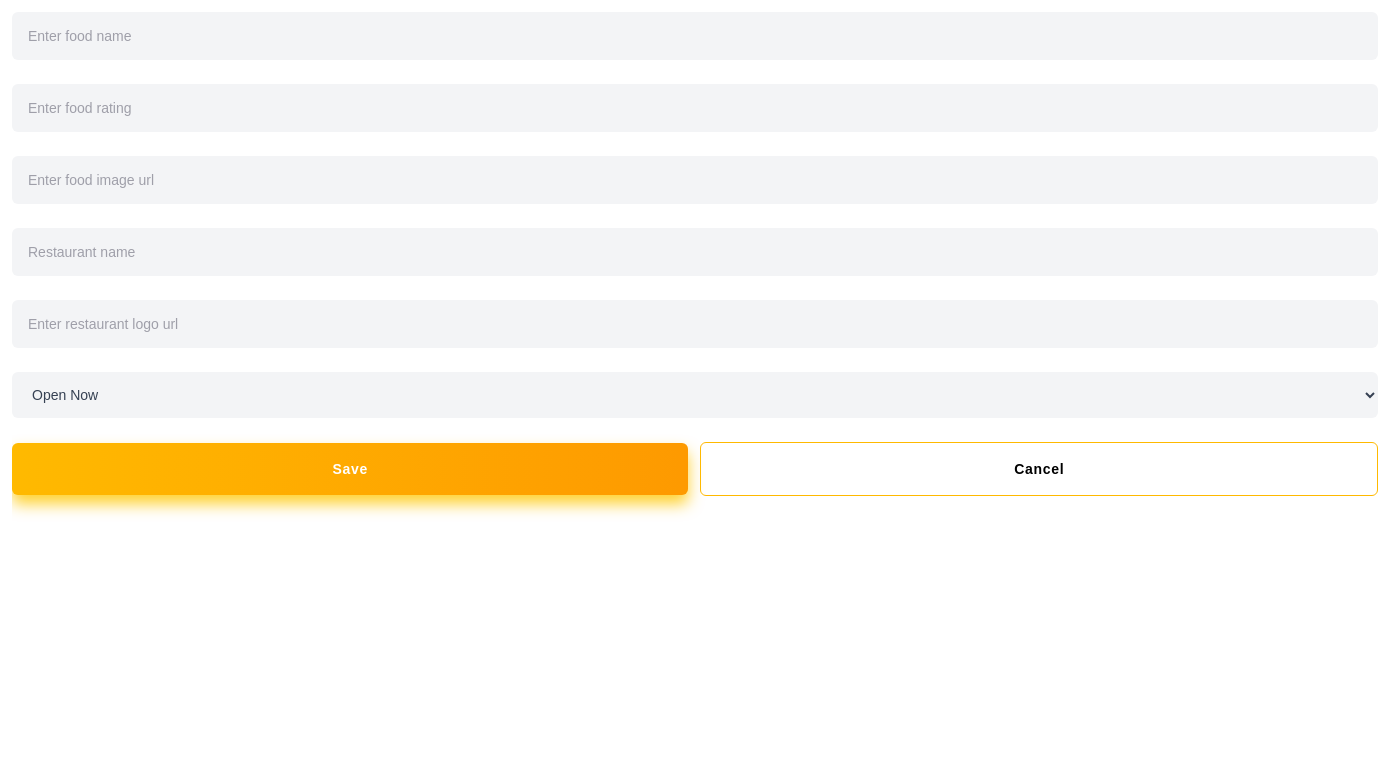
Test: FoodForm › shows error for invalid rating range
The image size is (1390, 780).
Fill required fields first
Type "Pizza" into the field with placeholder "Enter food name".
click(695, 36); type("Pizza")  # box x1=12 y1=12 x2=1378 y2=60
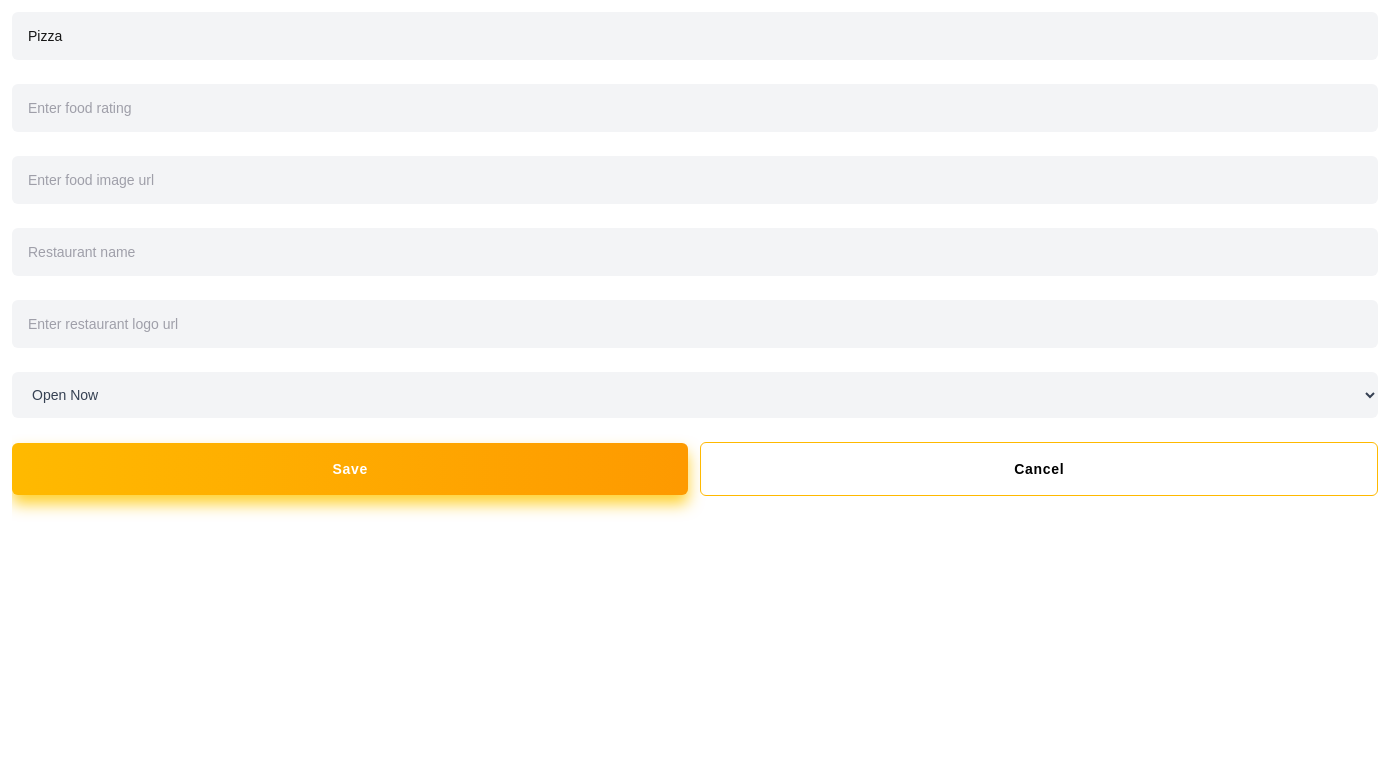
Type "https://example.com/pizza.jpg" into the field with placeholder "Enter food image url".
click(695, 180); type("https://example.com/pizza.jpg")  # box x1=12 y1=156 x2=1378 y2=204
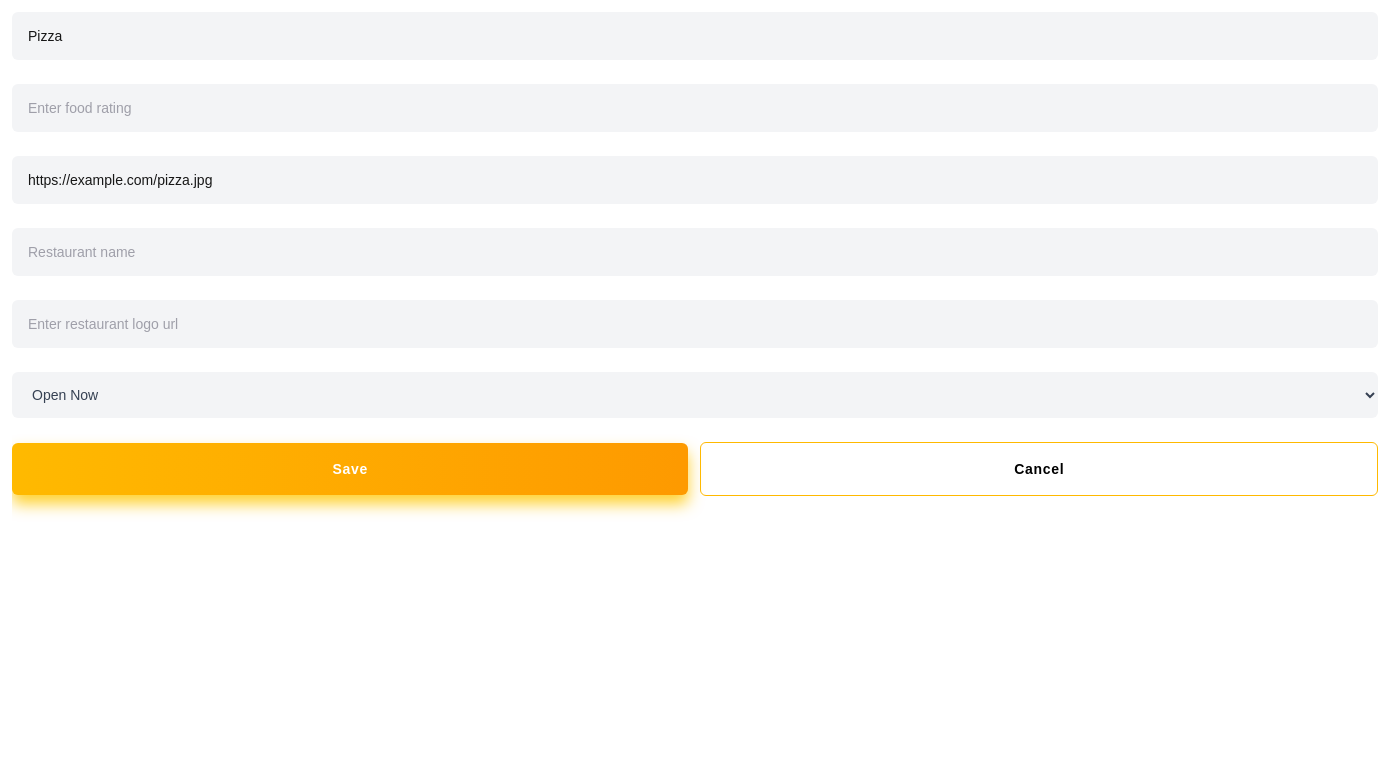
Type "Pizza Place" into the field with placeholder "Restaurant name".
click(695, 252); type("Pizza Place")  # box x1=12 y1=228 x2=1378 y2=276
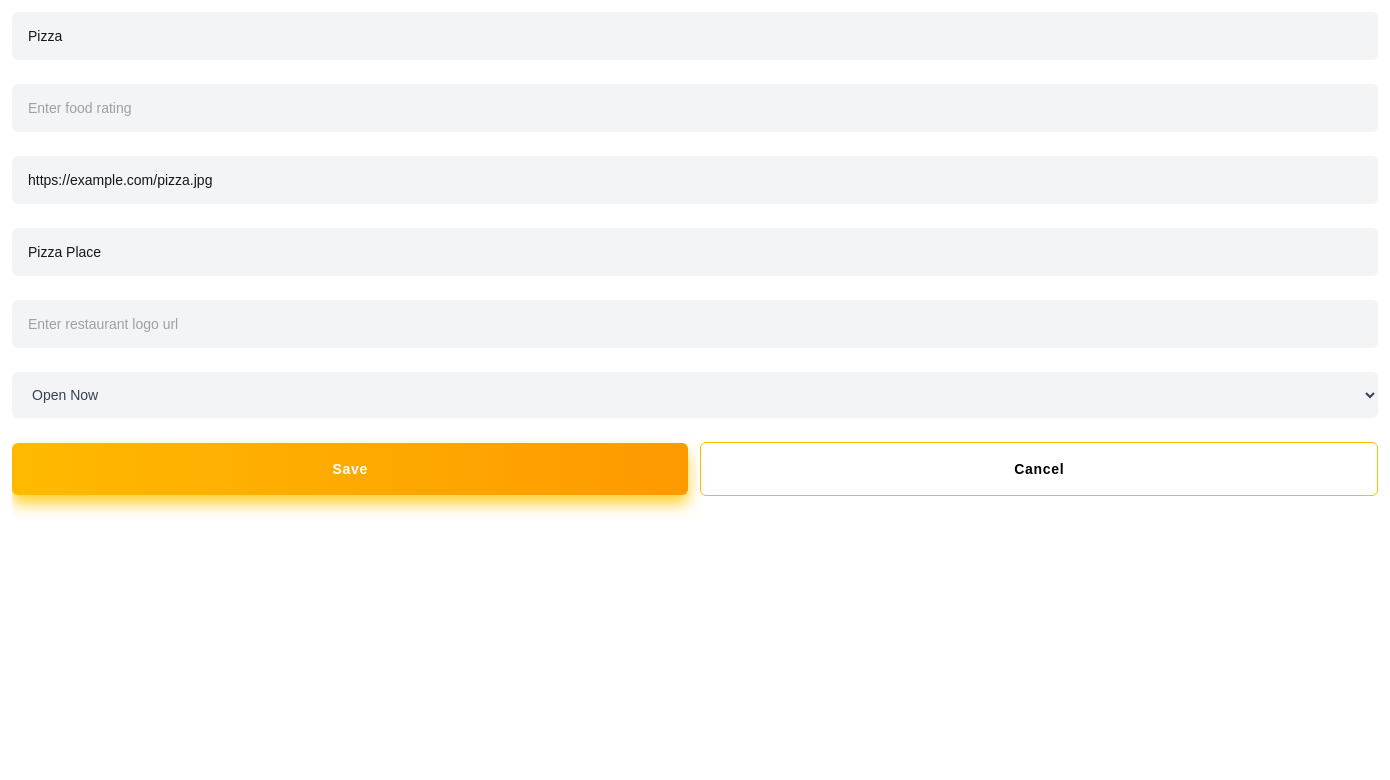
Type "https://example.com/logo.jpg" into the field with placeholder "Enter restaurant logo url".
click(695, 324); type("https://example.com/logo.jpg")  # box x1=12 y1=300 x2=1378 y2=348
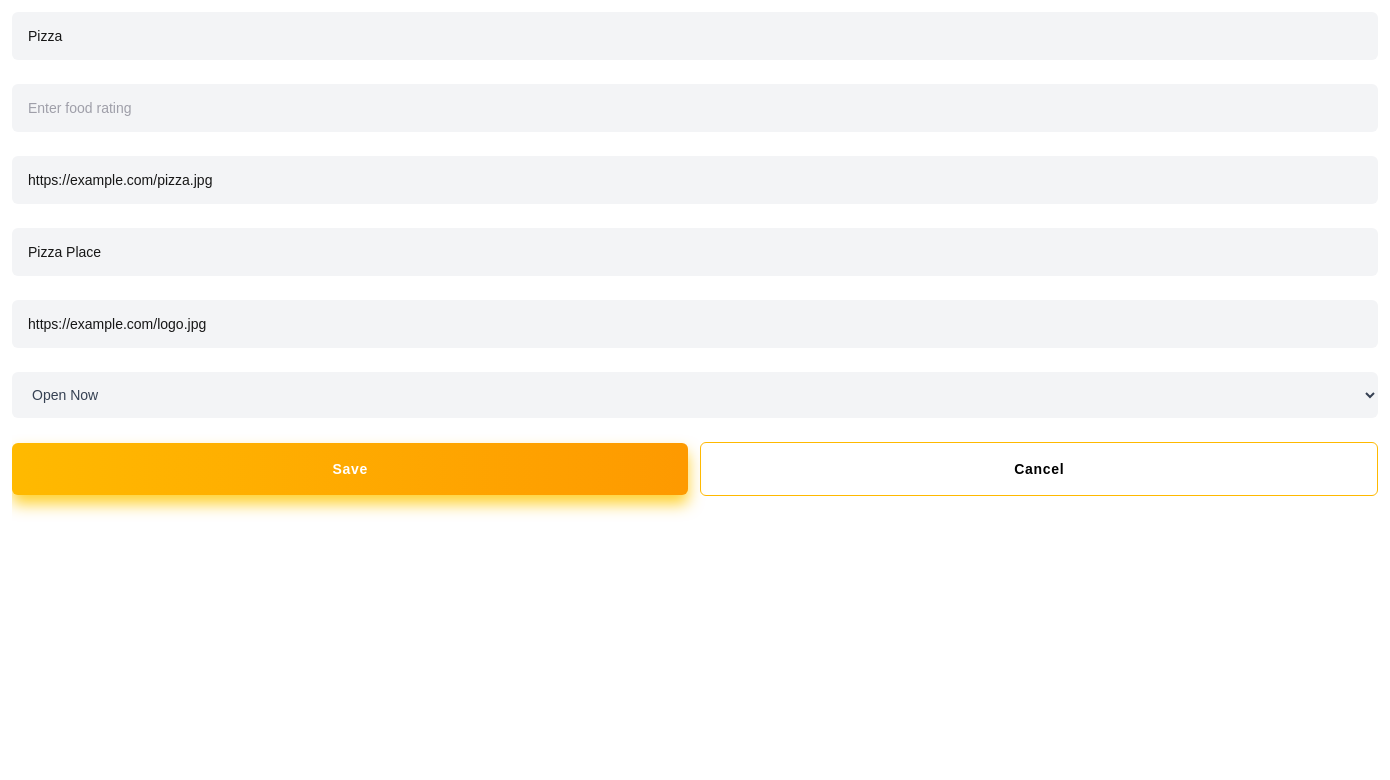
Type "6" into the number field with placeholder "Enter food rating".
click(695, 108); type("6")  # box x1=12 y1=84 x2=1378 y2=132
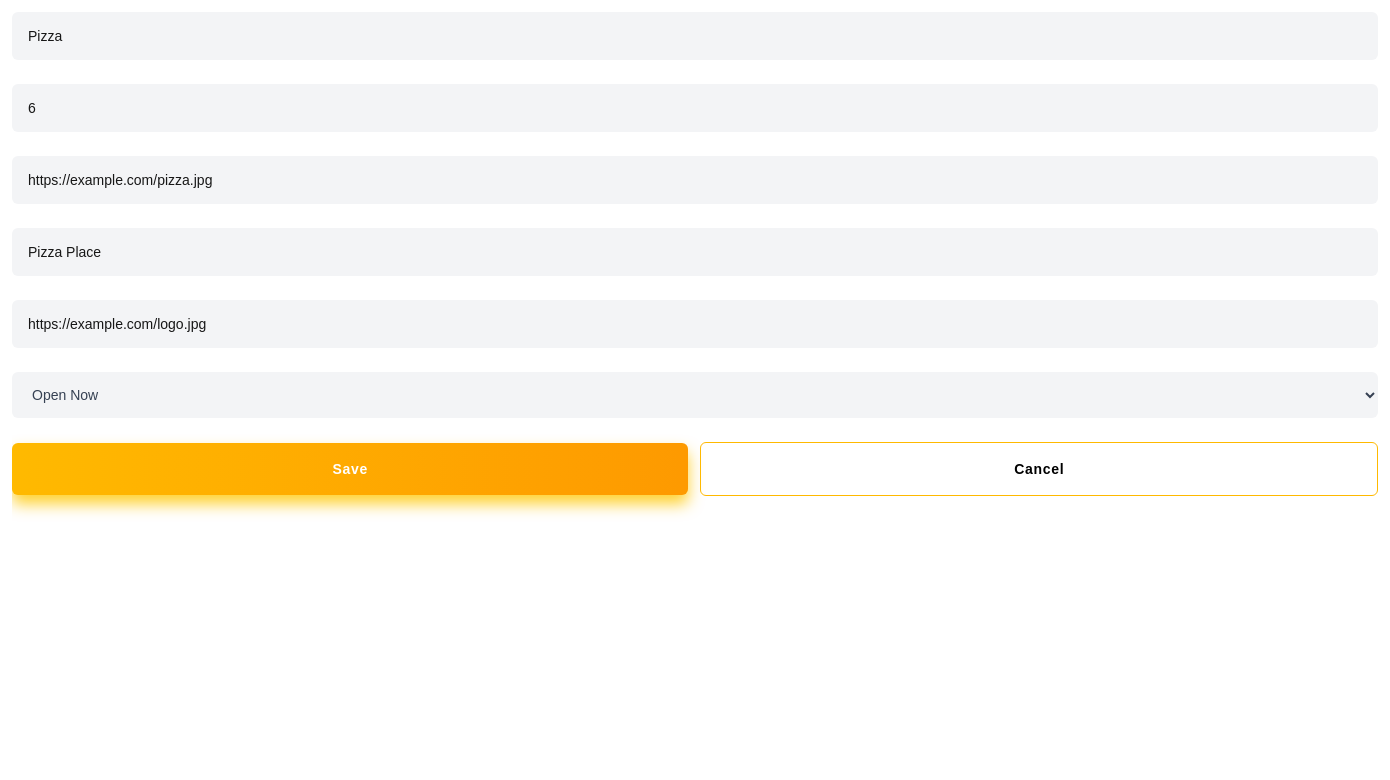
Click the button "Save".
click(350, 469)  # box x1=12 y1=443 x2=688 y2=495
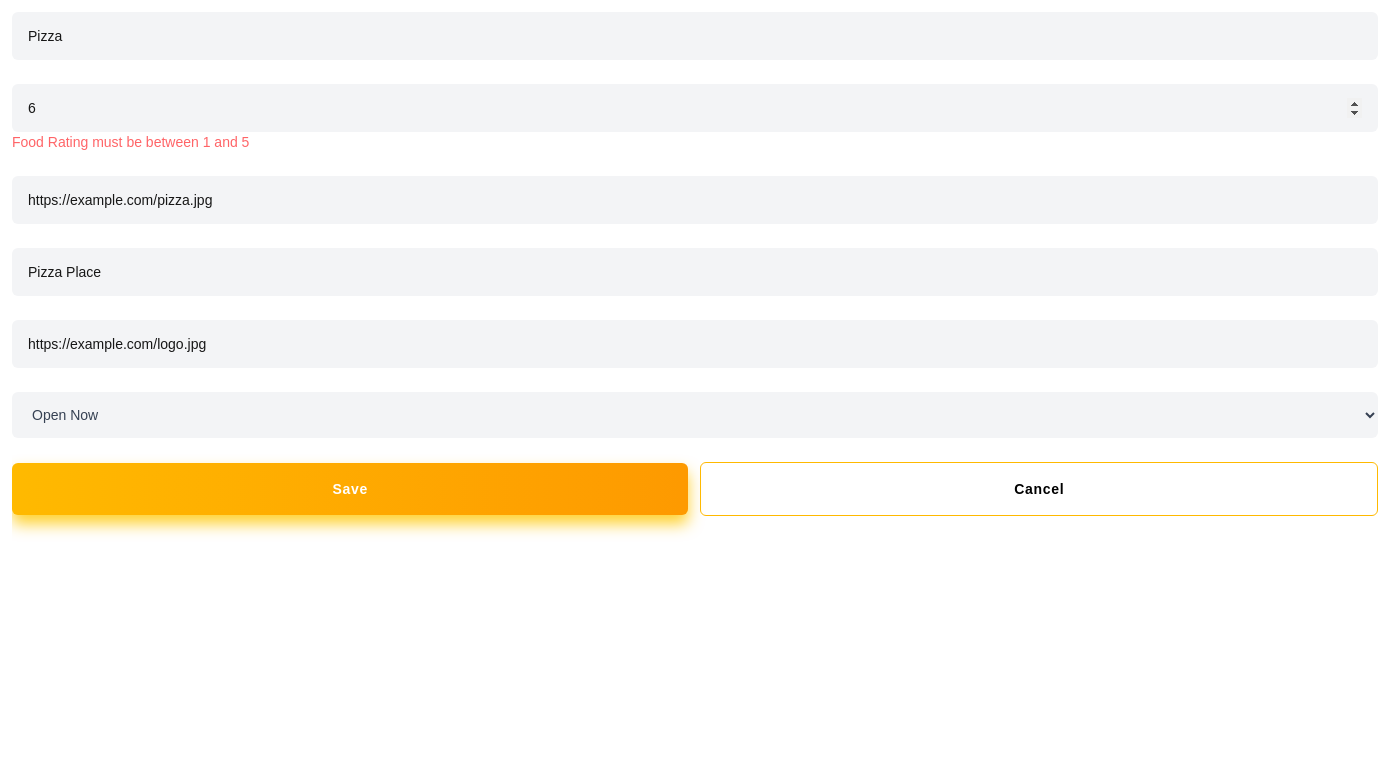
Now the text "Food Rating must be between 1 and 5" is shown, box x1=12 y1=134 x2=249 y2=150
